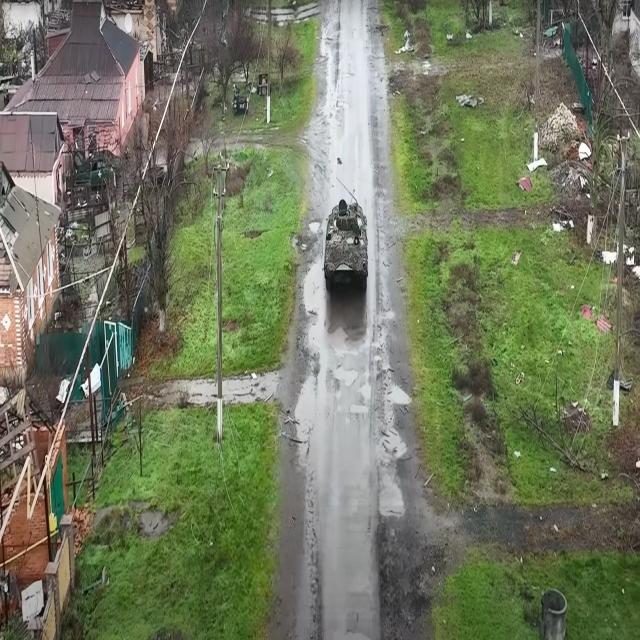AIFV: (325, 189, 370, 303)
